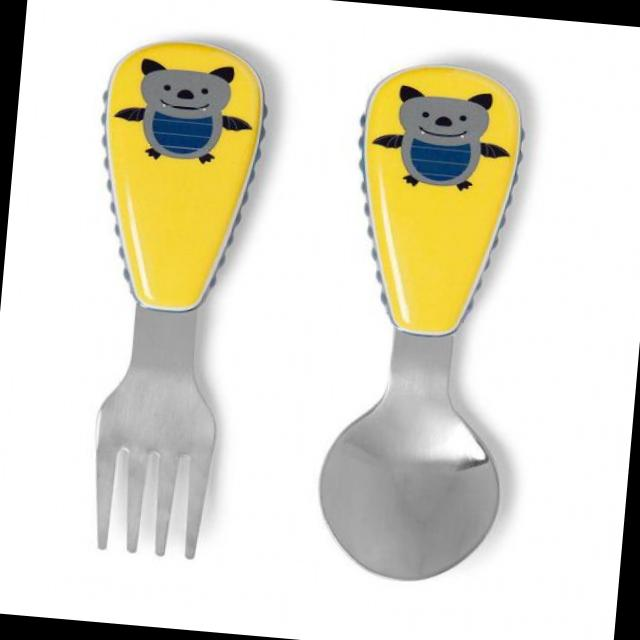fork: (78, 33, 280, 567)
spoon: (300, 36, 545, 598)
